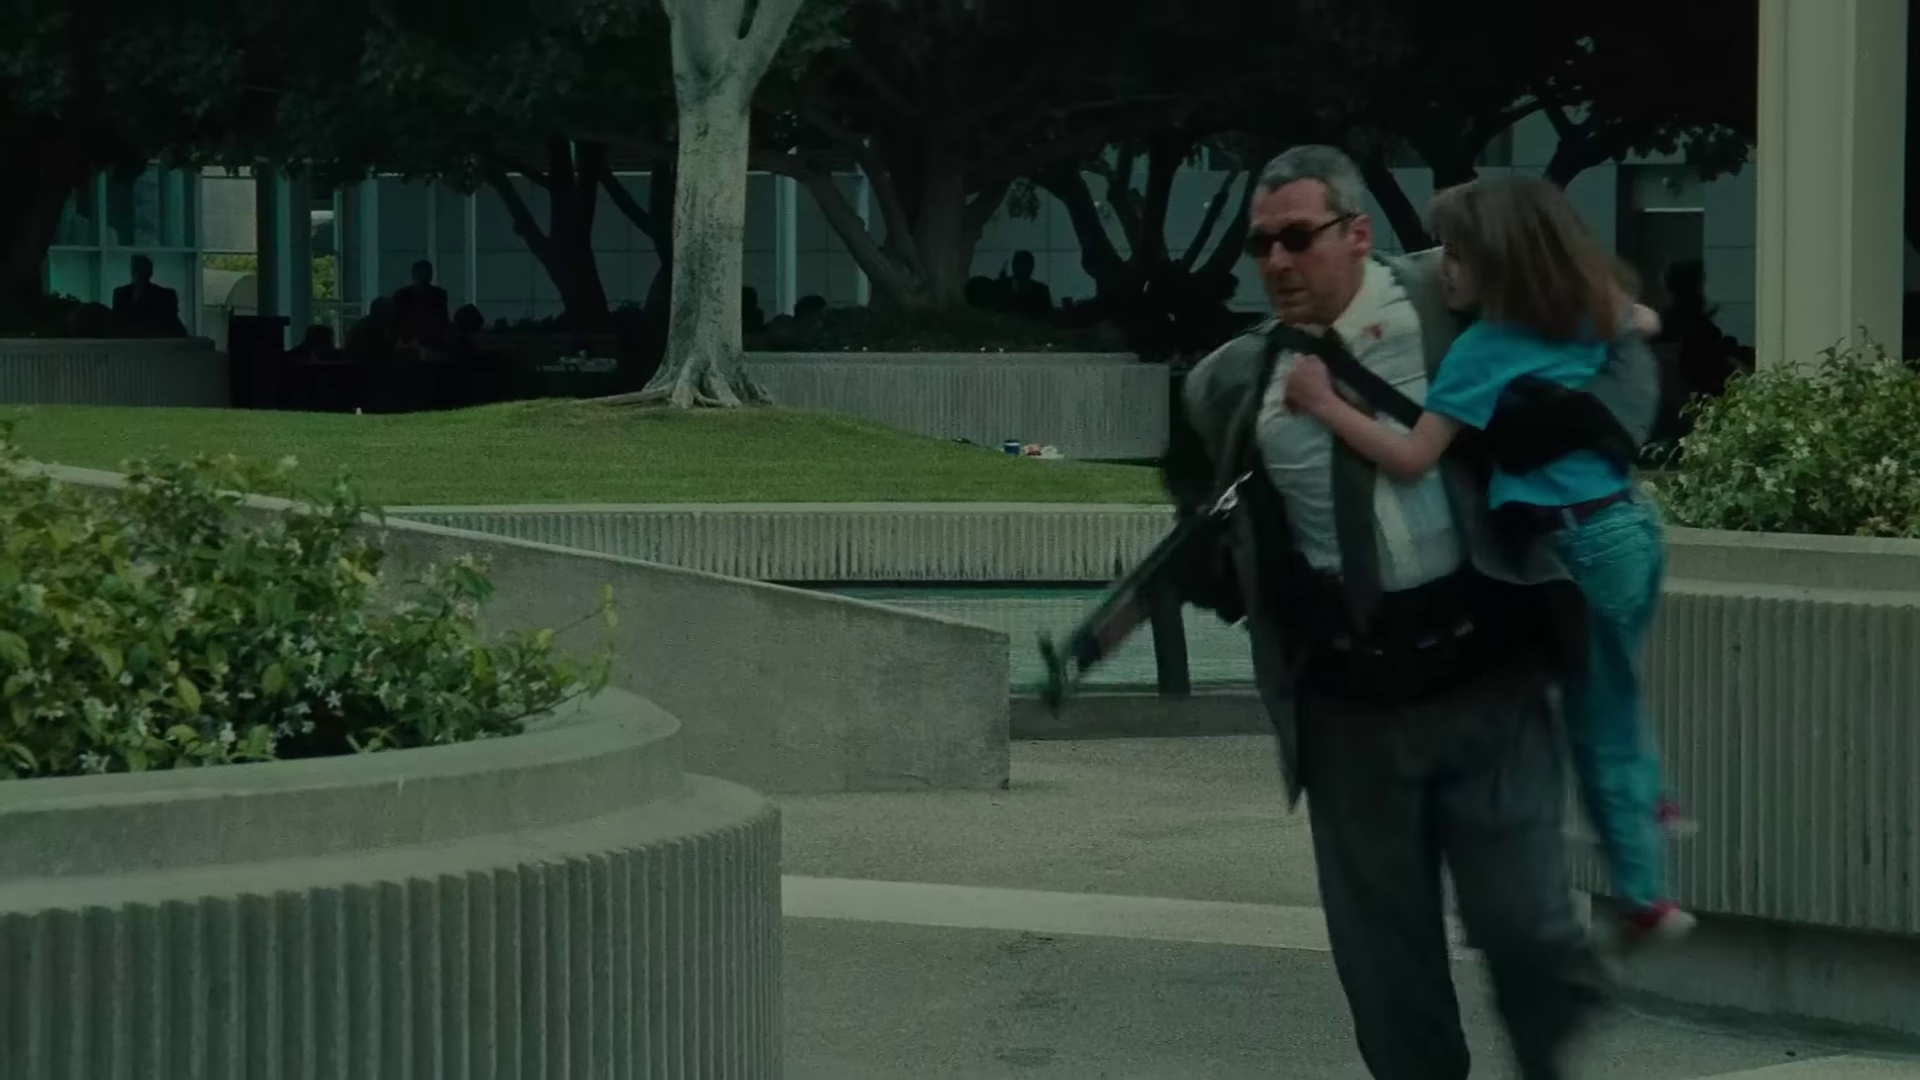gun: (1035, 473, 1288, 711)
p_w_gun: (1033, 144, 1630, 1079)
p_wo_gun_not_carrying_normal_pose: (1282, 162, 1714, 964)
